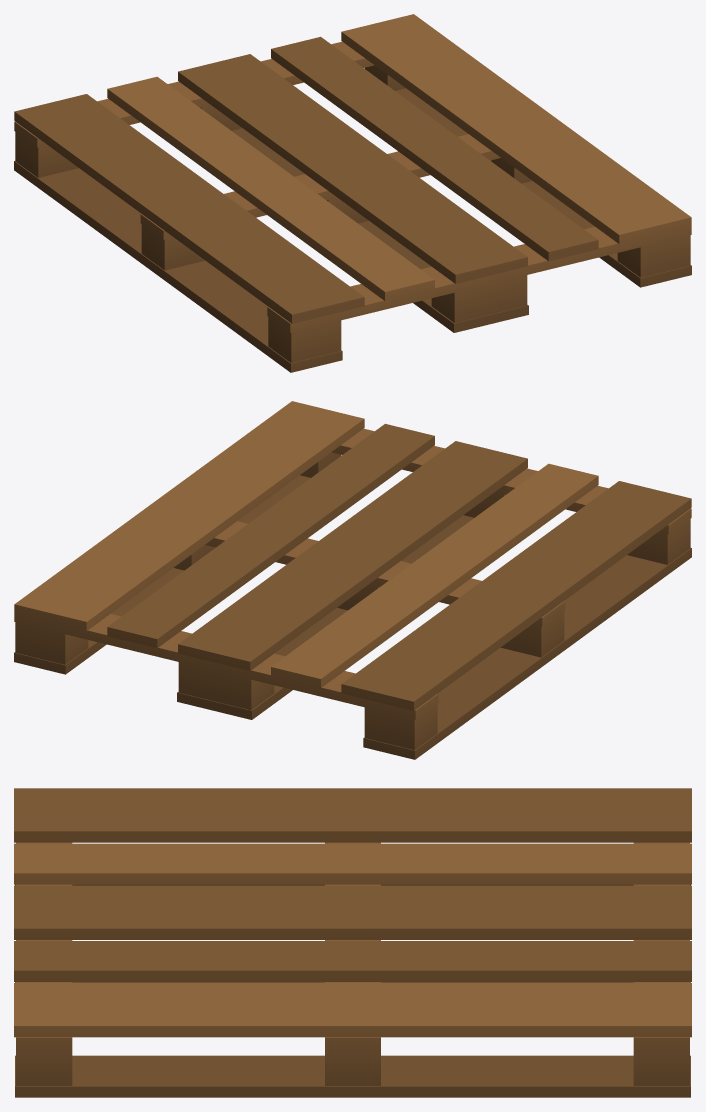
The model's file is Prop_Wooden_Pallet_02.obj.
The picture shows the model from 3 angles, top to bottom: view 1: azimuth 30°, elevation 25°; view 2: azimuth 150°, elevation 25°; view 3: azimuth 270°, elevation 25°; orthographic projection. The views are drawn at different scales.
Parts seen in each view (by area): view 1: Prop_Wooden_Pallet_02; view 2: Prop_Wooden_Pallet_02; view 3: Prop_Wooden_Pallet_02.
Part boxes in pixels (bbox=[...]): Prop_Wooden_Pallet_02: bbox=[14, 14, 691, 372]; Prop_Wooden_Pallet_02: bbox=[14, 401, 691, 759]; Prop_Wooden_Pallet_02: bbox=[14, 788, 691, 1097].
Bounding box in the file's own units: 1.22 × 0.1689 × 1.46.
Materials: 1 (1 with a texture image).
